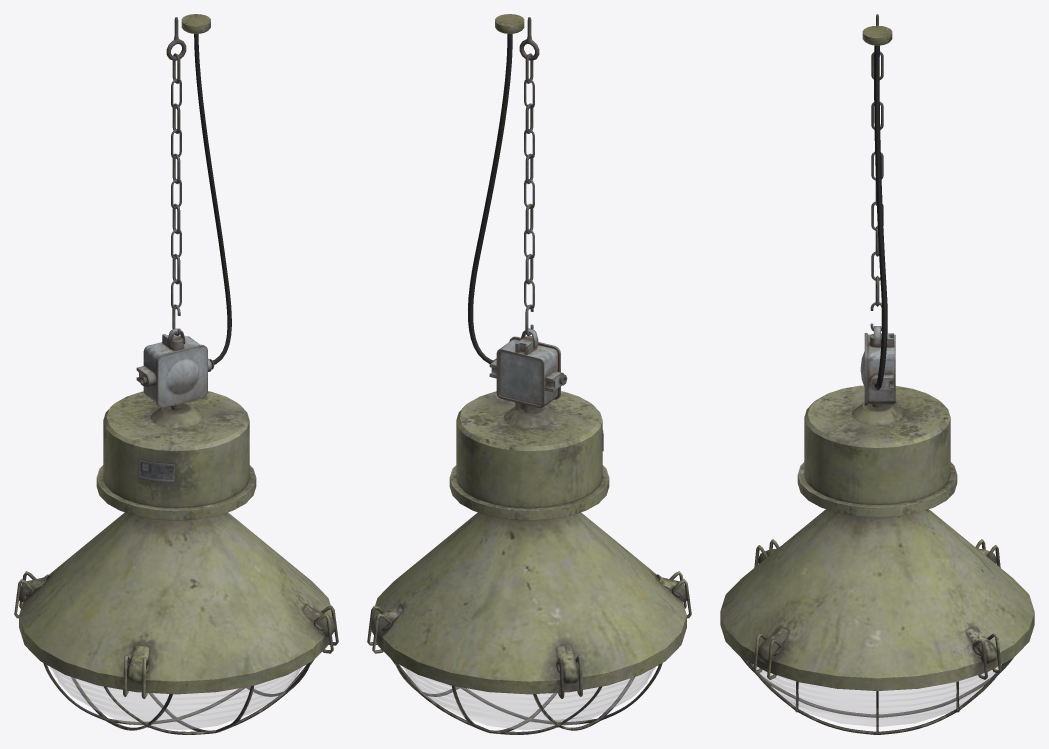
Rendered from hanging_industrial_lamp.glb.
3 renders of one model, left to right at view 1: azimuth 30°, elevation 25°; view 2: azimuth 150°, elevation 25°; view 3: azimuth 270°, elevation 25°, orthographic.
Visible parts, largest first — view 1: hanging_industrial_lamp; view 2: hanging_industrial_lamp; view 3: hanging_industrial_lamp.
Boxes of the visible parts, x1,y1,x2,y2 form: hanging_industrial_lamp: (14, 14, 338, 734); hanging_industrial_lamp: (367, 14, 691, 734); hanging_industrial_lamp: (720, 14, 1034, 734).
Bounding box in the file's own units: 0.5497 × 1.36 × 0.5497.
Materials: 2 (1 with a texture image).
